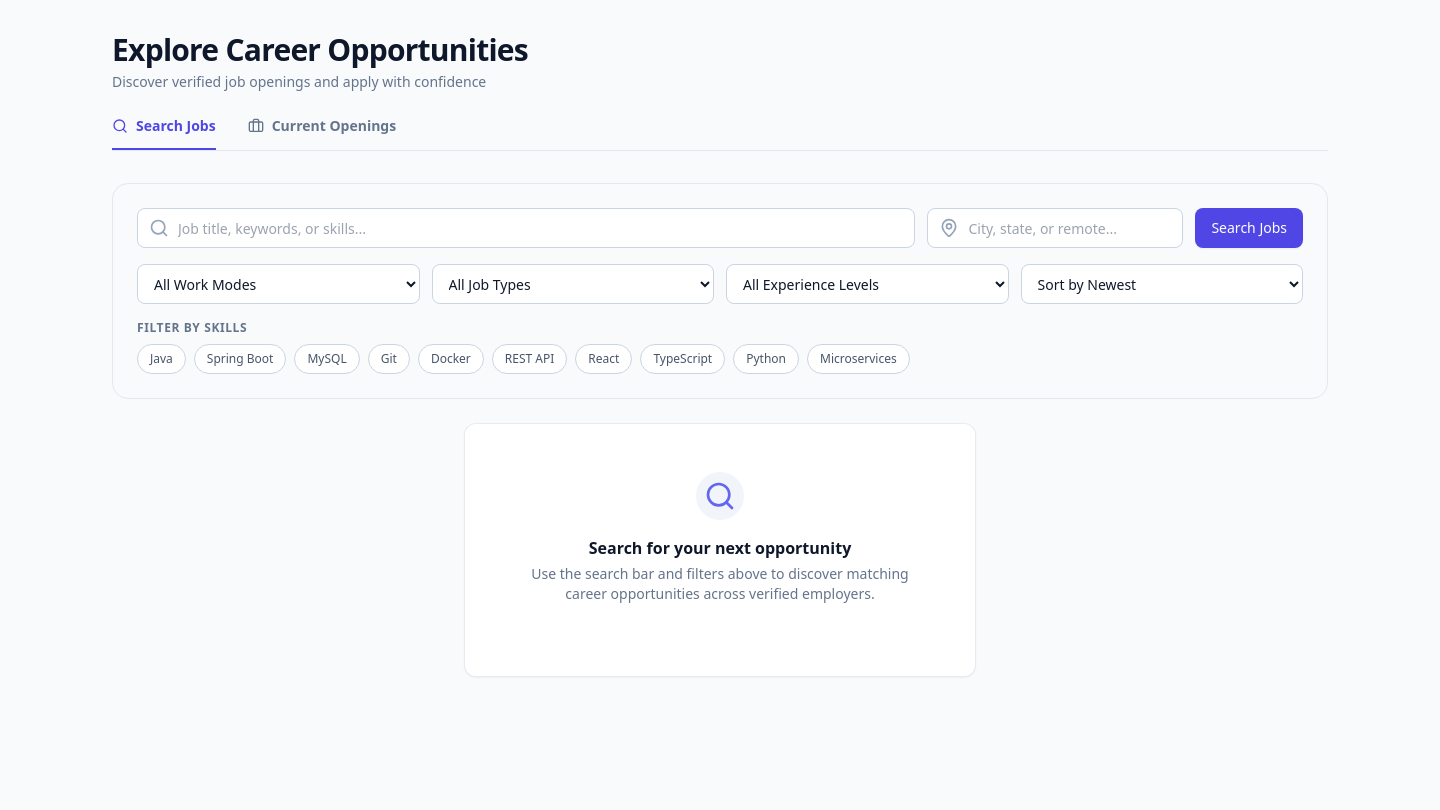
it: Job Discovery Tabs & Filter Synchronization Integration › renders Search Jobs and Current Openings tabs, showing search empty state initially and searching properly
Expected: the button "Current Openings" is shown, left=248, top=116, right=396, bottom=150
Expected: the heading "Search for your next opportunity" is shown, left=589, top=536, right=851, bottom=560
Perform a search for React
Type "React" into the field with placeholder "Job title, keywords, or skills...".
click(526, 228); type("React")  # box left=137, top=208, right=915, bottom=248
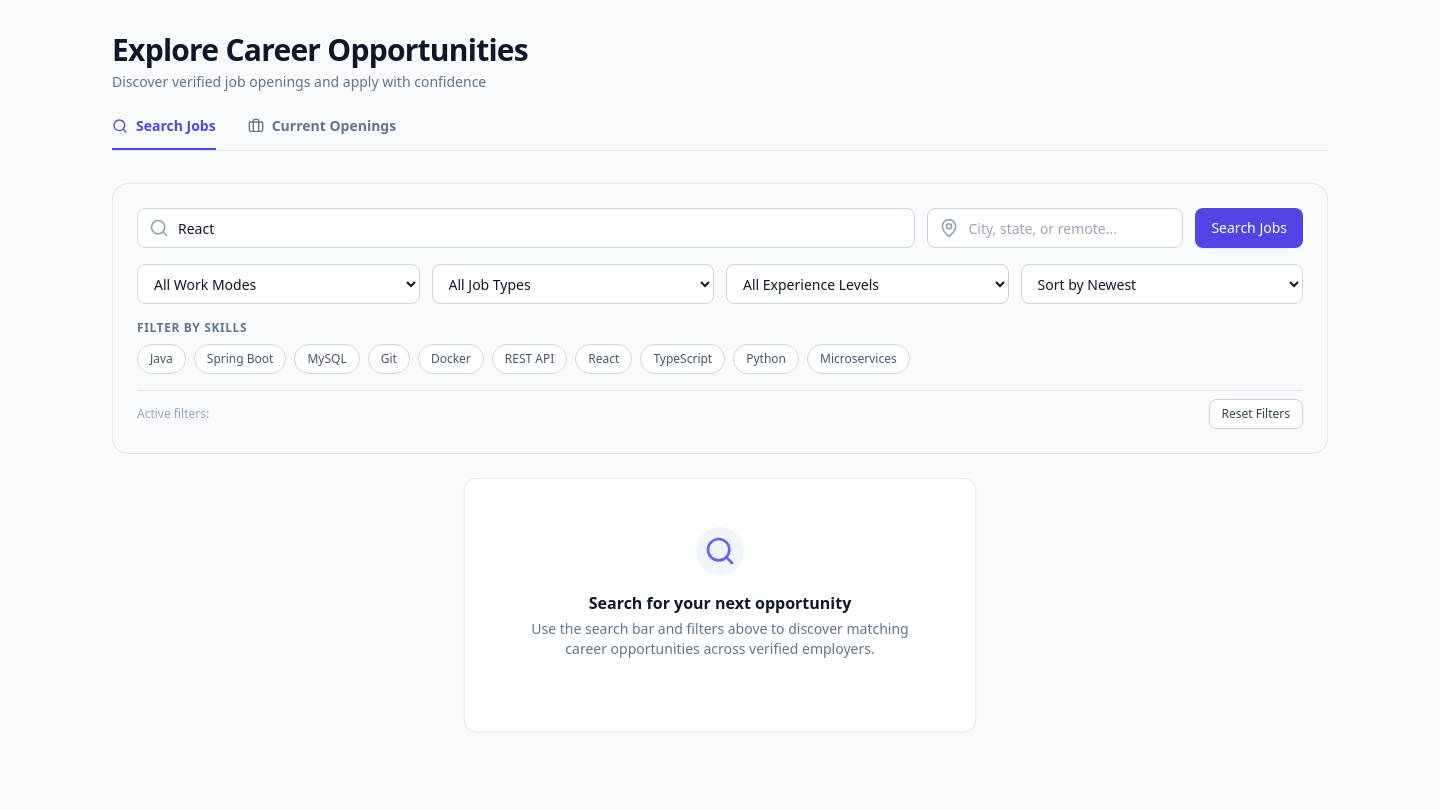
Click the 2nd button "Search Jobs".
click(1249, 228)  # box left=1195, top=208, right=1303, bottom=248
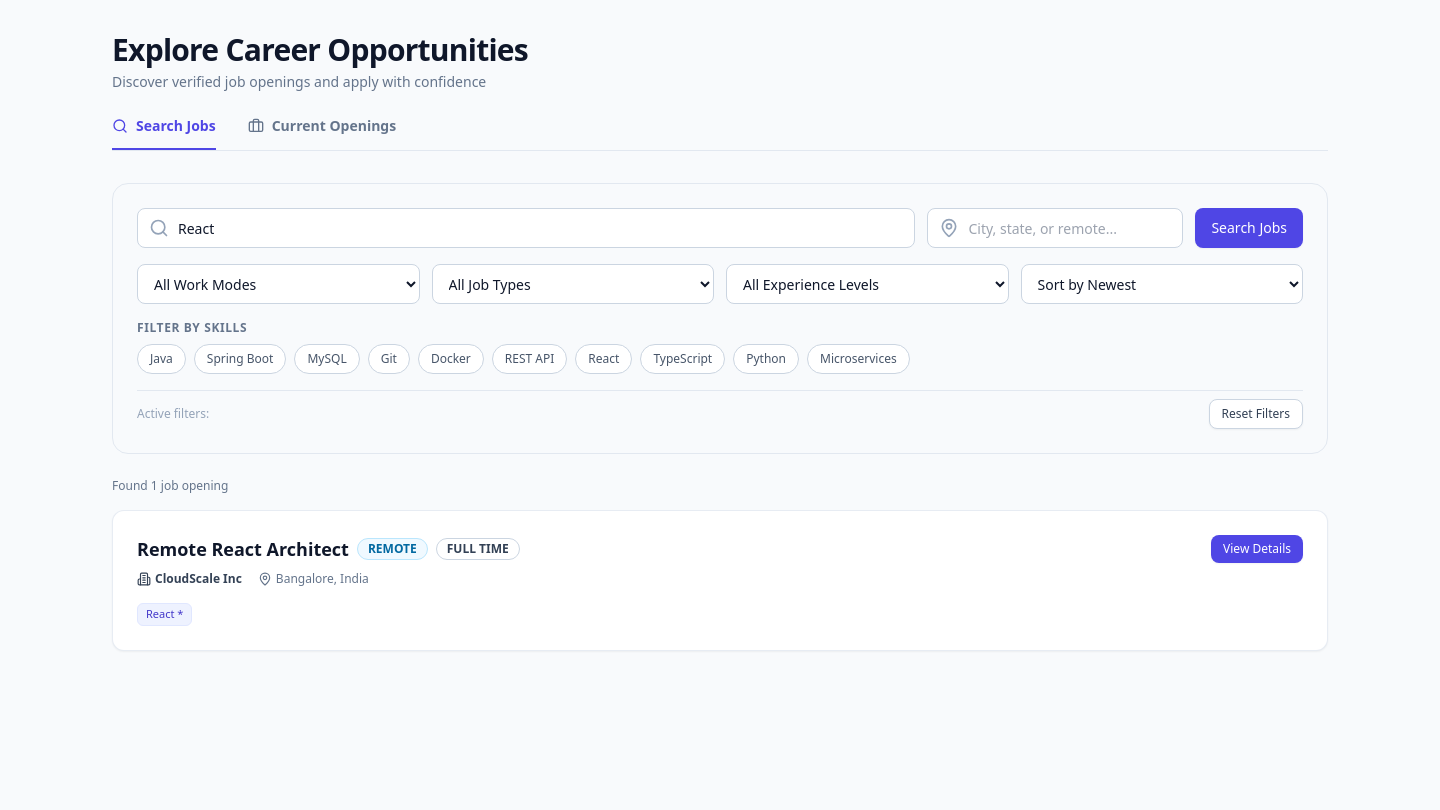
Now the link "Remote React Architect" is shown, box left=137, top=535, right=349, bottom=563
Switch to Current Openings tab
Click the button "Current Openings".
click(322, 133)  # box left=248, top=116, right=396, bottom=150
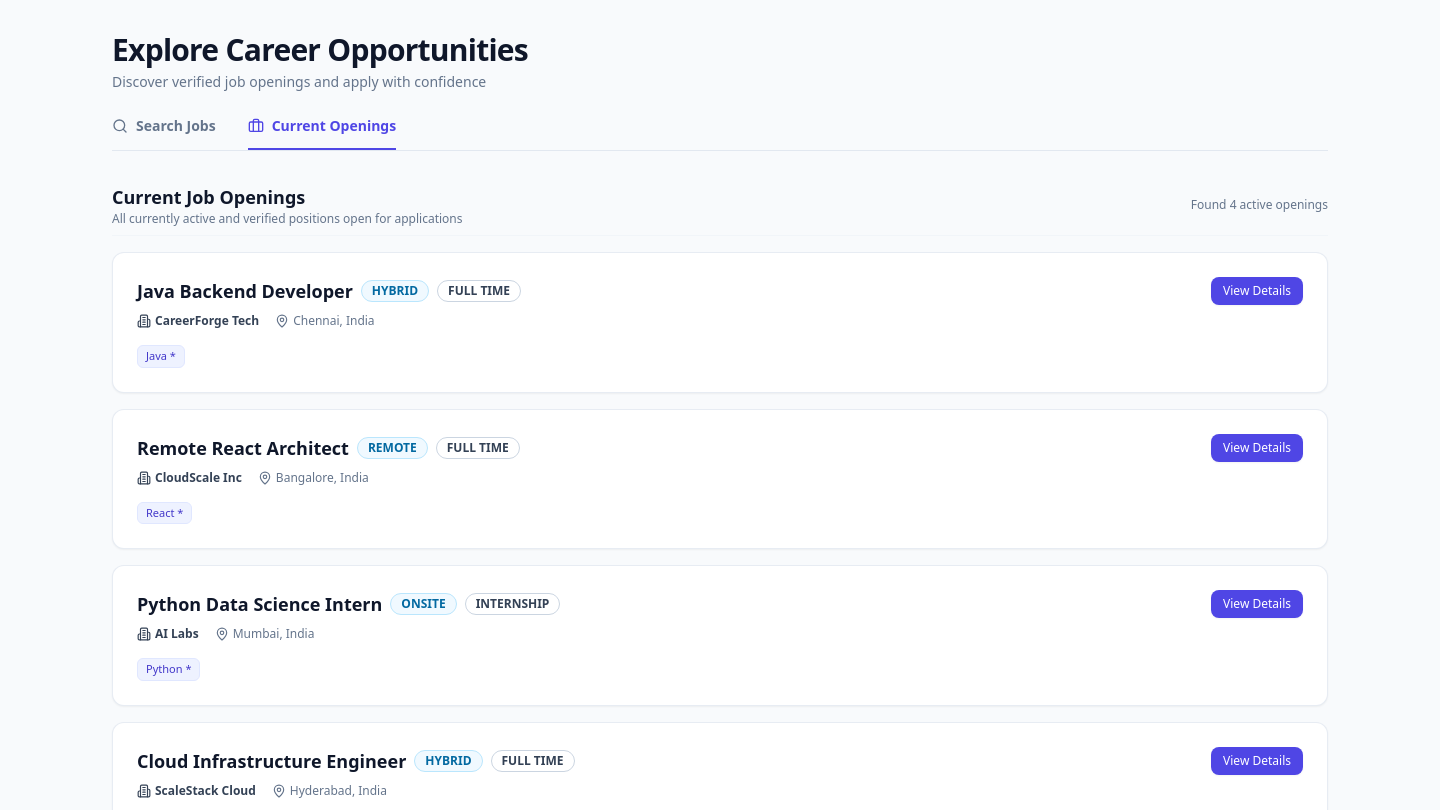
Now the link "Java Backend Developer" is shown, box left=137, top=277, right=353, bottom=305
